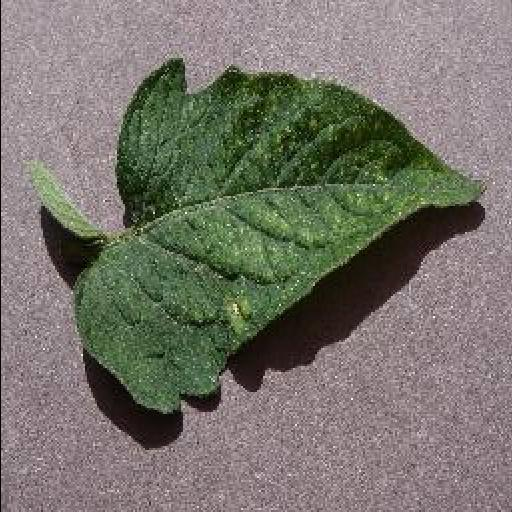disease_tomato: (70, 62, 488, 412)
